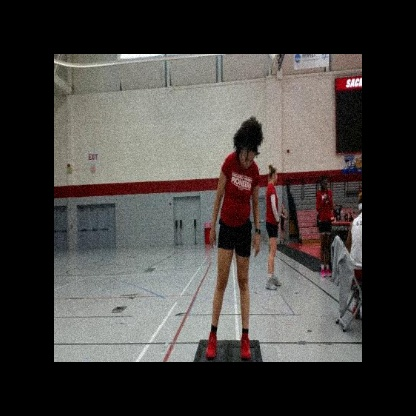lateral_flexion_left: (204, 109, 265, 362)
stance_width_normal: (203, 155, 263, 361)
